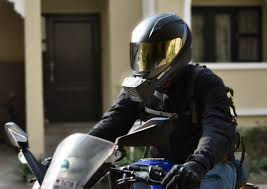helmet: (122, 16, 196, 79)
